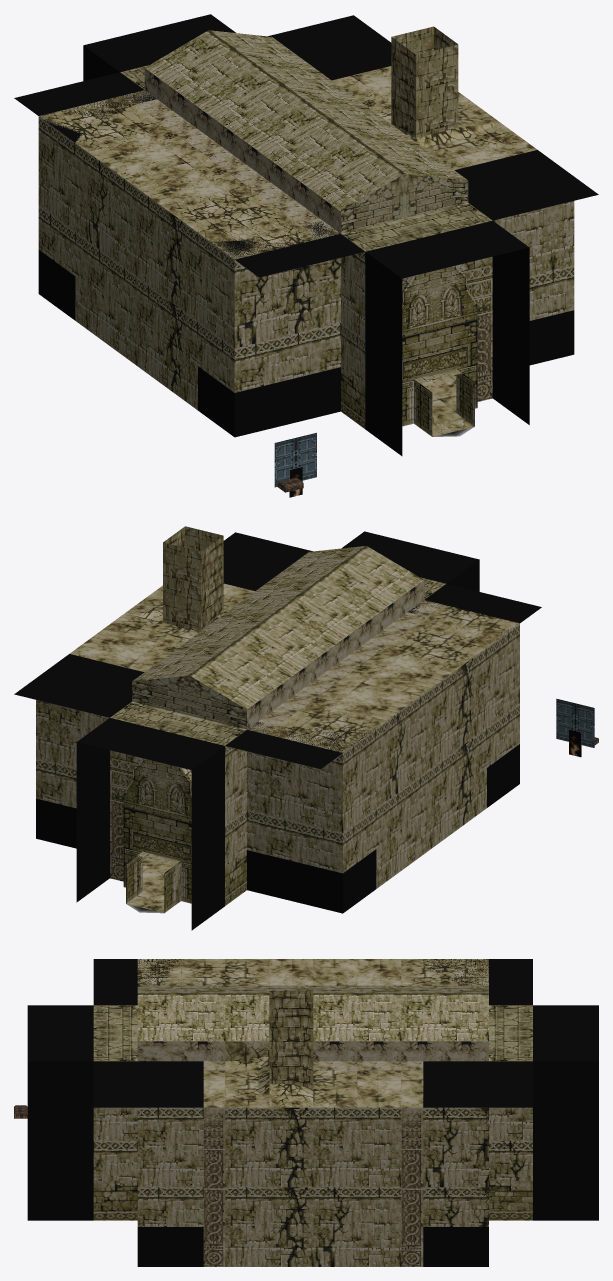
Rendered from MAP025.obj.
3 renders of one model, top to bottom at view 1: azimuth 30°, elevation 25°; view 2: azimuth 150°, elevation 25°; view 3: azimuth 270°, elevation 25°, orthographic. The views are drawn at different scales.
Parts seen in each view (by area): view 1: mesh_52, mesh_50, mesh_91, mesh_112, mesh_89, mesh_51, mesh_49, mesh_48, mesh_40, mesh_45, mesh_111, mesh_47 (+27 smaller); view 2: mesh_52, mesh_50, mesh_90, mesh_112, mesh_89, mesh_51, mesh_92, mesh_49, mesh_48, mesh_45, mesh_27, mesh_47 (+25 smaller); view 3: mesh_52, mesh_50, mesh_91, mesh_100, mesh_90, mesh_101, mesh_36, mesh_51, mesh_49, mesh_89, mesh_48, mesh_102 (+18 smaller).
Boxes of the visible parts, left/top/right/bottom form: mesh_52: left=145, top=30, right=467, bottom=211; mesh_50: left=39, top=26, right=524, bottom=259; mesh_91: left=365, top=220, right=529, bottom=455; mesh_112: left=38, top=161, right=234, bottom=400; mesh_89: left=38, top=250, right=574, bottom=437; mesh_51: left=88, top=66, right=537, bottom=205; mesh_49: left=124, top=68, right=340, bottom=238; mesh_48: left=120, top=65, right=492, bottom=251; mesh_40: left=402, top=256, right=492, bottom=436; mesh_45: left=75, top=143, right=210, bottom=410; mesh_111: left=234, top=278, right=340, bottom=392; mesh_47: left=87, top=152, right=185, bottom=312; mesh_52: left=132, top=546, right=423, bottom=709; mesh_50: left=103, top=526, right=519, bottom=752; mesh_90: left=76, top=718, right=224, bottom=930; mesh_112: left=343, top=664, right=519, bottom=880; mesh_89: left=36, top=744, right=519, bottom=913; mesh_51: left=69, top=583, right=452, bottom=720; mesh_92: left=247, top=770, right=342, bottom=873; mesh_49: left=247, top=580, right=442, bottom=733; mesh_48: left=110, top=577, right=445, bottom=745; mesh_45: left=376, top=640, right=497, bottom=888; mesh_27: left=110, top=750, right=191, bottom=912; mesh_47: left=387, top=656, right=475, bottom=800; mesh_52: left=137, top=985, right=488, bottom=1041; mesh_50: left=137, top=959, right=488, bottom=1107; mesh_91: left=27, top=1005, right=93, bottom=1220; mesh_100: left=137, top=1147, right=401, bottom=1266; mesh_90: left=533, top=1005, right=598, bottom=1220; mesh_101: left=269, top=1147, right=488, bottom=1266; mesh_36: left=225, top=1107, right=401, bottom=1187; mesh_51: left=203, top=959, right=423, bottom=1107; mesh_49: left=137, top=1041, right=488, bottom=1070; mesh_89: left=137, top=1227, right=488, bottom=1266; mesh_48: left=93, top=1005, right=532, bottom=1061; mesh_102: left=203, top=1147, right=423, bottom=1266.
Size of the model in its own units: 218 by 162 by 341.
Materials: 13 (13 with a texture image).
